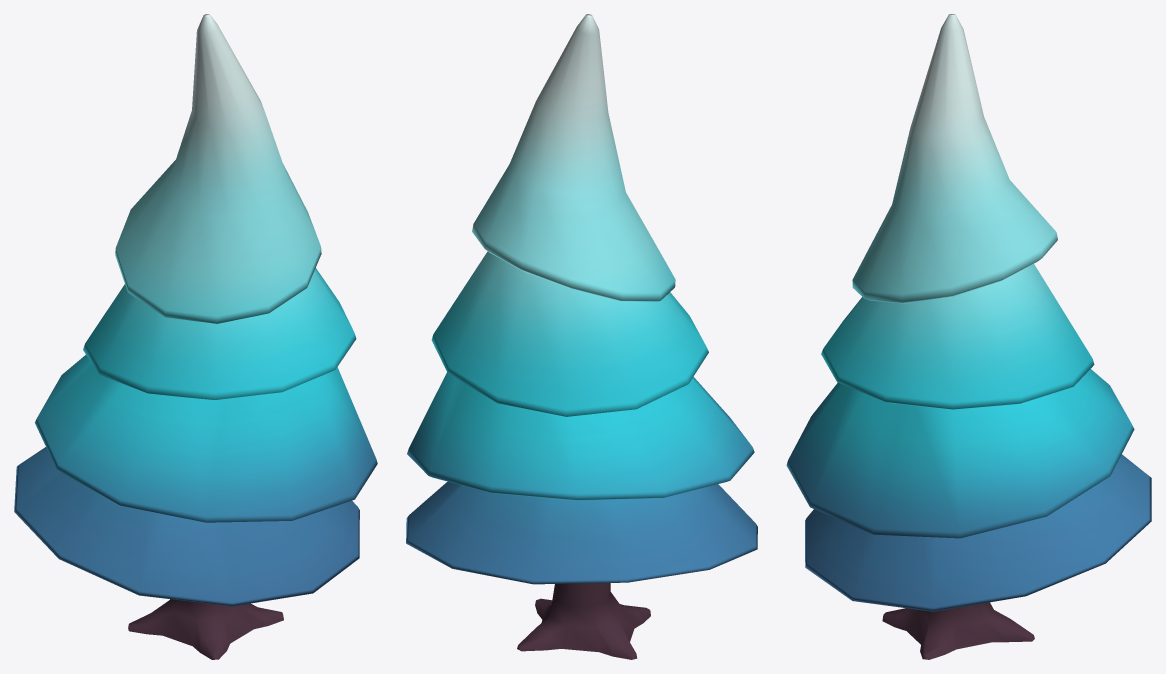
File: tree_winter3.fbx
3 renders of one model, left to right at view 1: azimuth 30°, elevation 25°; view 2: azimuth 150°, elevation 25°; view 3: azimuth 270°, elevation 25°, orthographic.
Visible parts, largest first — view 1: model_0.005; view 2: model_0.005; view 3: model_0.005.
Part boxes in pixels (<box>): model_0.005: <box>14,14,377,659</box>; model_0.005: <box>406,14,757,659</box>; model_0.005: <box>786,14,1151,659</box>.
Bounding box in the file's own units: 1116 × 2112 × 1131.
